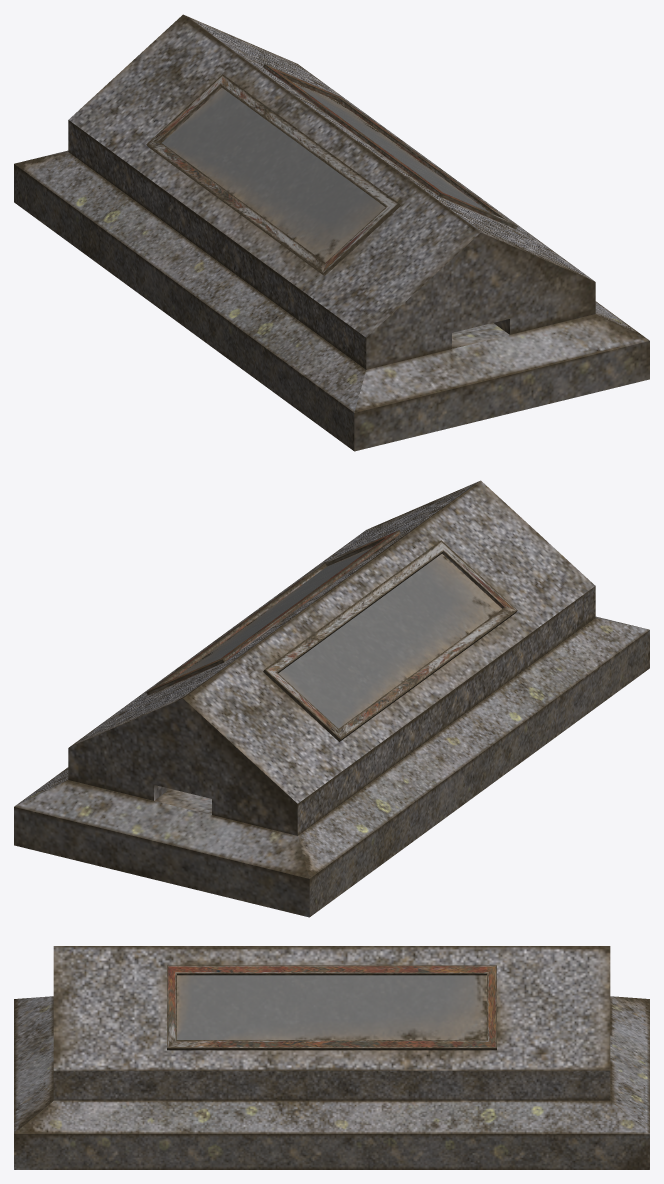
File: big_tomb1.glb
The picture shows the model from 3 angles, top to bottom: view 1: azimuth 30°, elevation 25°; view 2: azimuth 150°, elevation 25°; view 3: azimuth 270°, elevation 25°; orthographic projection. The views are drawn at different scales.
Visible parts, largest first — view 1: Grave1_Graves_0; view 2: Grave1_Graves_0; view 3: Grave1_Graves_0.
Part boxes in pixels (box(x1,y1,x2,y2)): Grave1_Graves_0: box(14, 14, 649, 451); Grave1_Graves_0: box(14, 480, 649, 917); Grave1_Graves_0: box(14, 946, 649, 1169).
Bounding box in the file's own units: 122 × 66.15 × 244.
Materials: 1 (1 with a texture image).
